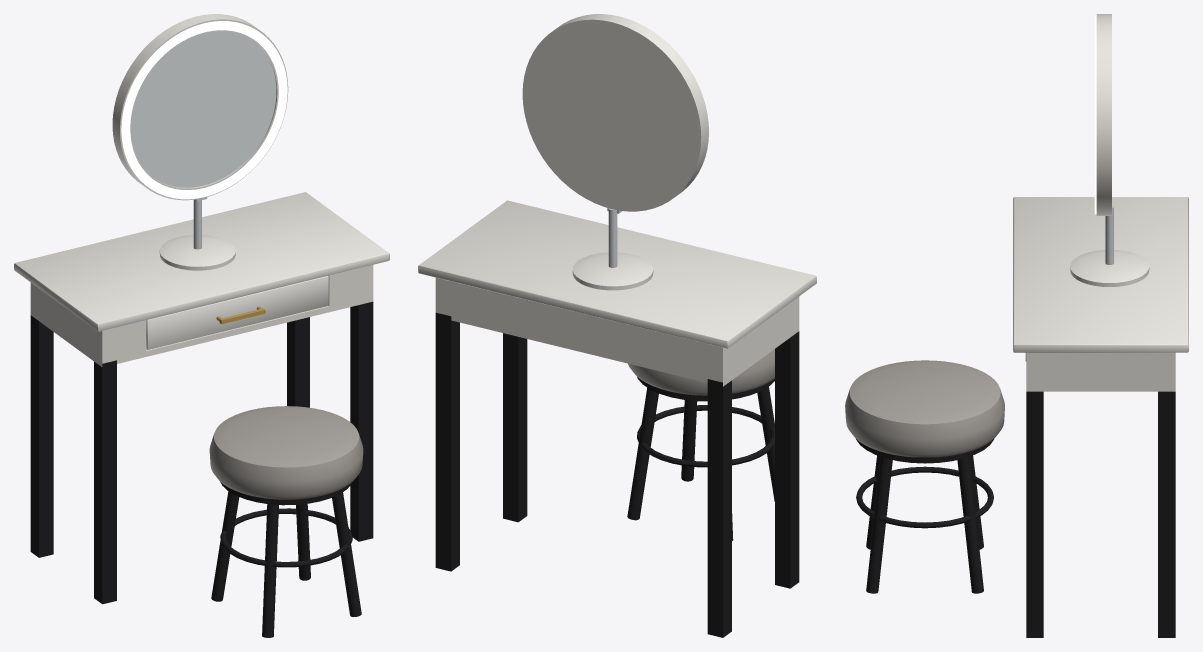
File: beauty_vanity_table.glb
The picture shows the model from 3 angles, left to right: view 1: azimuth 30°, elevation 25°; view 2: azimuth 150°, elevation 25°; view 3: azimuth 270°, elevation 25°; orthographic projection. The views are drawn at different scales.
Parts seen in each view (by area): view 1: Compact vanity table - Lacquered wood, white, Compact vanity table - Powder-coated steel, black, Mirror glass - Mirror glass, Stool cushion - Stool cushion, grey boucle fabric, LED light ring (emissive) - LED ring, cool white (emissive); view 2: Compact vanity table - Lacquered wood, white, Compact vanity table - Powder-coated steel, black, Stool cushion - Stool cushion, grey boucle fabric, LED mirror stand - Chrome; view 3: Compact vanity table - Lacquered wood, white, Compact vanity table - Powder-coated steel, black, Stool cushion - Stool cushion, grey boucle fabric, LED light ring (emissive) - LED ring, cool white (emissive).
Boxes of the visible parts, bbox=[...] form: Compact vanity table - Lacquered wood, white: bbox=[14, 14, 389, 366]; Compact vanity table - Powder-coated steel, black: bbox=[30, 301, 373, 637]; Mirror glass - Mirror glass: bbox=[131, 31, 276, 187]; Stool cushion - Stool cushion, grey boucle fabric: bbox=[209, 406, 363, 499]; LED light ring (emissive) - LED ring, cool white (emissive): bbox=[121, 21, 287, 199]; Compact vanity table - Lacquered wood, white: bbox=[418, 14, 816, 386]; Compact vanity table - Powder-coated steel, black: bbox=[435, 312, 799, 637]; Stool cushion - Stool cushion, grey boucle fabric: bbox=[628, 349, 774, 395]; LED mirror stand - Chrome: bbox=[607, 208, 622, 267]; Compact vanity table - Lacquered wood, white: bbox=[1013, 14, 1188, 391]; Compact vanity table - Powder-coated steel, black: bbox=[856, 391, 1175, 637]; Stool cushion - Stool cushion, grey boucle fabric: bbox=[845, 360, 1004, 457]; LED light ring (emissive) - LED ring, cool white (emissive): bbox=[1094, 15, 1096, 214].
Bounding box in the file's own units: 0.8 × 1.37 × 0.782.
8 materials, 2 textured.
